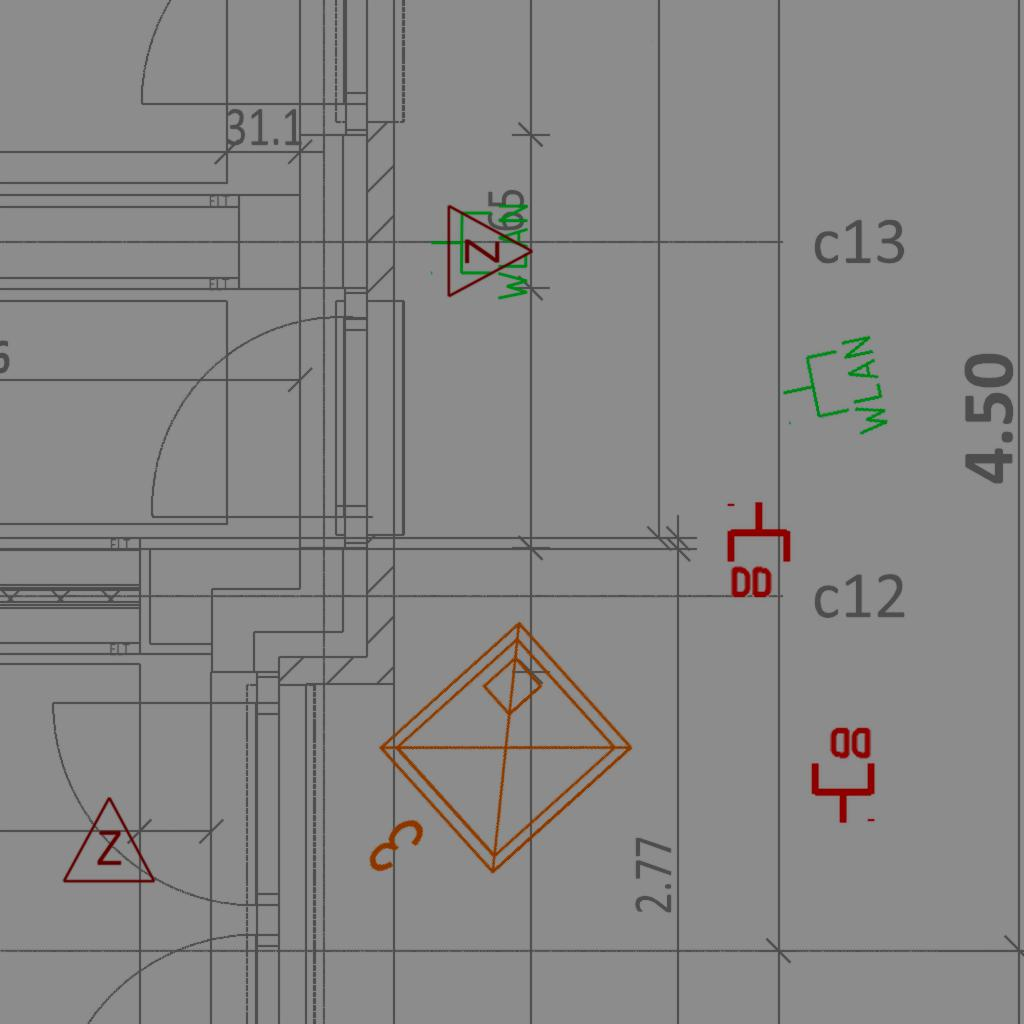Datenanschluss_zweifach: (807, 723, 876, 826), (726, 499, 795, 602)
Einbaudownlights_LED_Konferenzraeume: (296, 600, 660, 956)
WLAN: (771, 330, 895, 455), (428, 200, 532, 305)
Zimmersignalleuchte: (59, 790, 157, 890), (440, 201, 540, 299)
